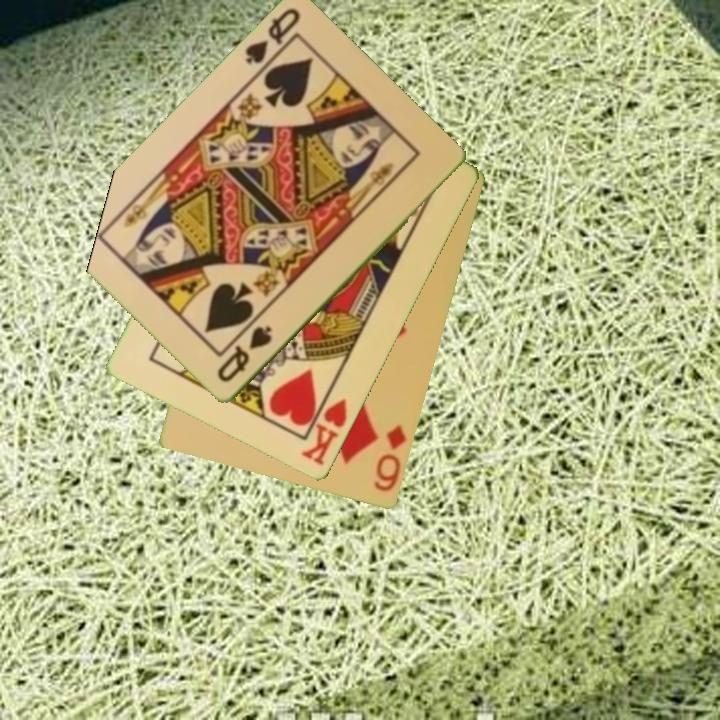6d: (370, 422, 410, 495)
Kh: (298, 384, 351, 469)
Qs: (241, 5, 303, 78), (214, 322, 276, 386)
